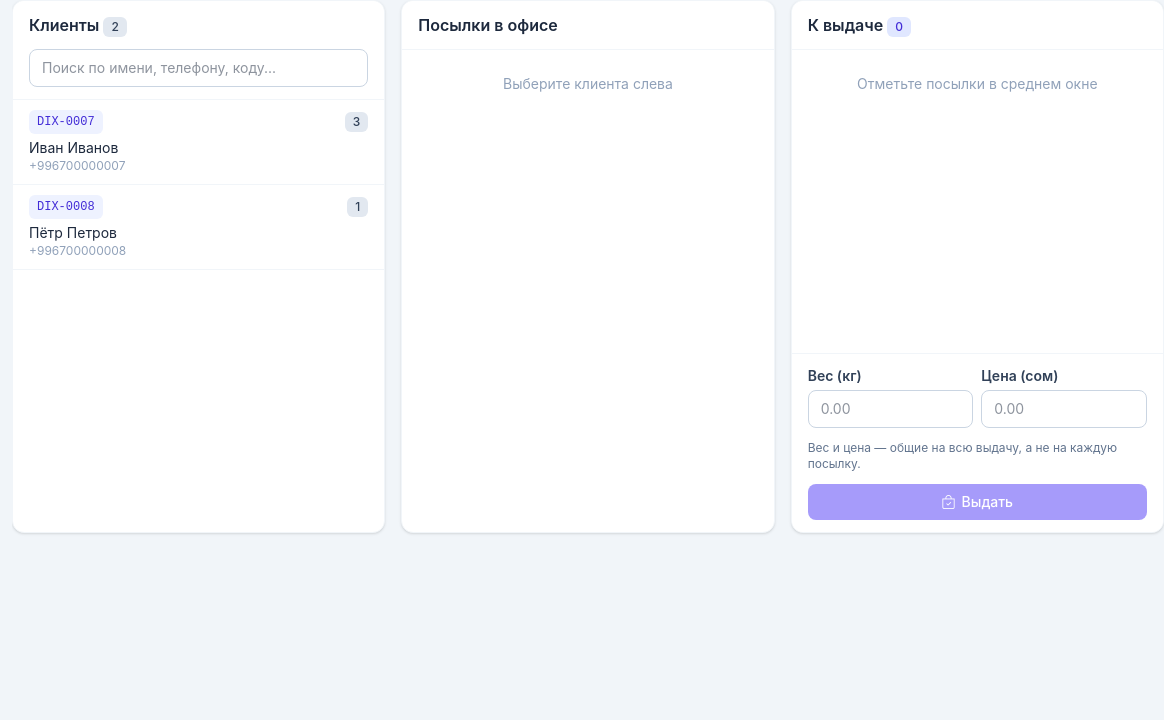
Test: DeliveryView › shows only IN_OFFICE packages of the selected client
This screenshot has width=1164, height=720.
Click the button with test id "client-row" that starts with "DIX-0007".
click(66, 122)  # box [13,100,384,185]
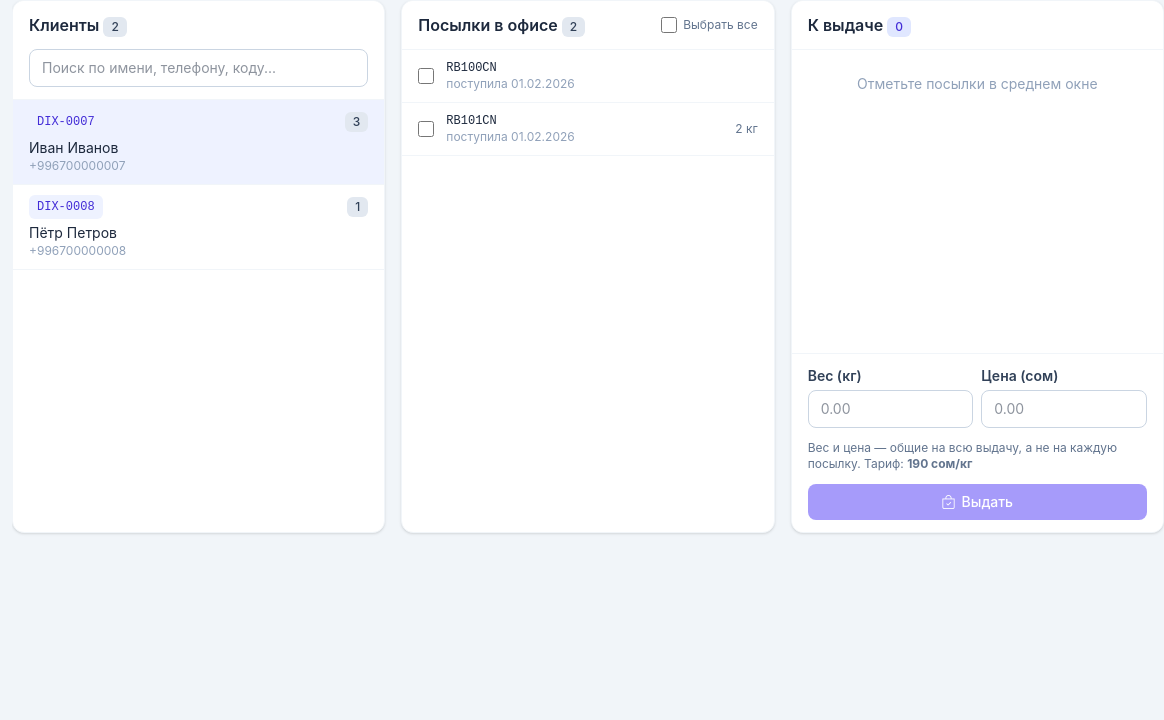
Check: the number of labels with test id "package-row" is 2, box [402,50,774,103]; [402,103,774,156]
